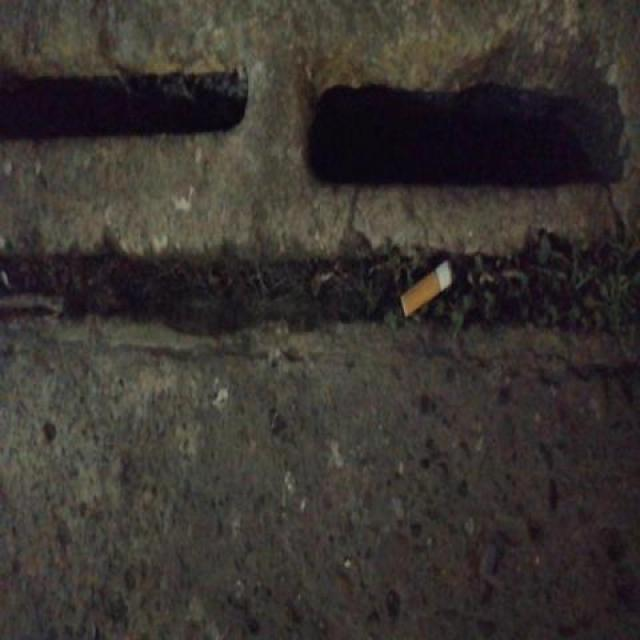non-organic waste: (396, 254, 460, 322)
